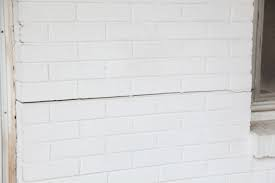crack: (15, 87, 250, 104)
